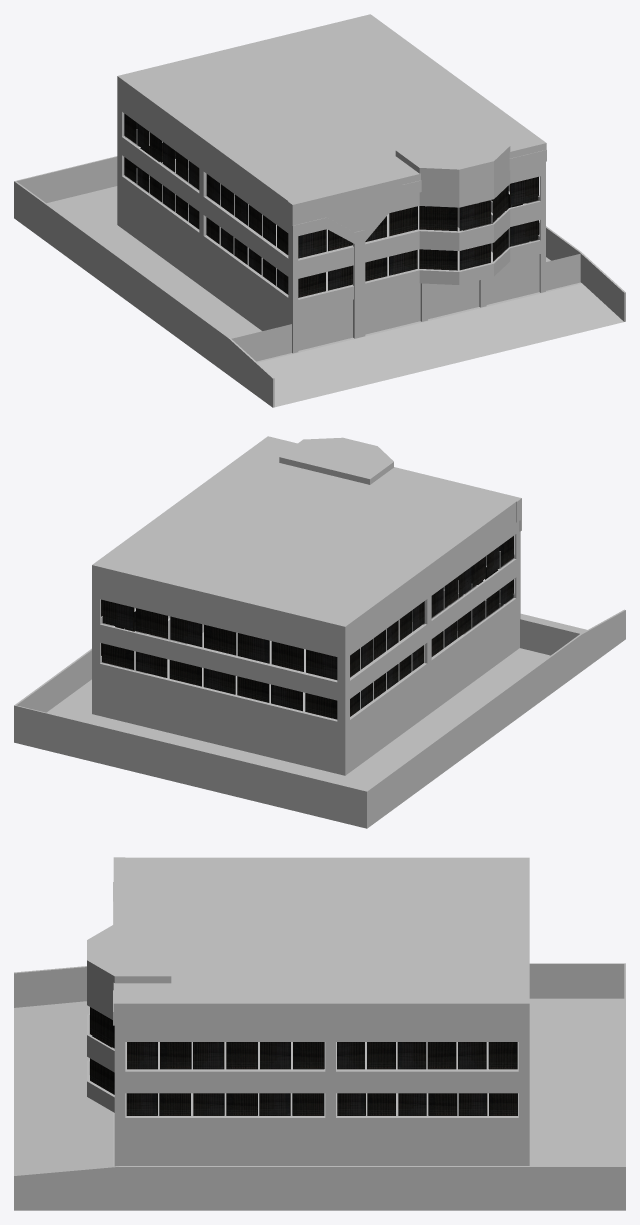
3 renders of one model, top to bottom at view 1: azimuth 30°, elevation 25°; view 2: azimuth 150°, elevation 25°; view 3: azimuth 270°, elevation 25°, orthographic. The views are drawn at different scales.
Visible parts, largest first — view 1: BB-028; view 2: BB-028; view 3: BB-028.
Part boxes in pixels (x1,y1,x2,y2): BB-028: [14, 14, 625, 407]; BB-028: [14, 436, 625, 828]; BB-028: [14, 857, 625, 1210].
Size of what is drawn, in the model's own units: 28.27 by 12.44 by 35.9.
